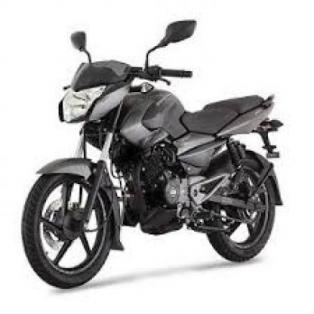Motocicleta: (21, 19, 285, 292)
